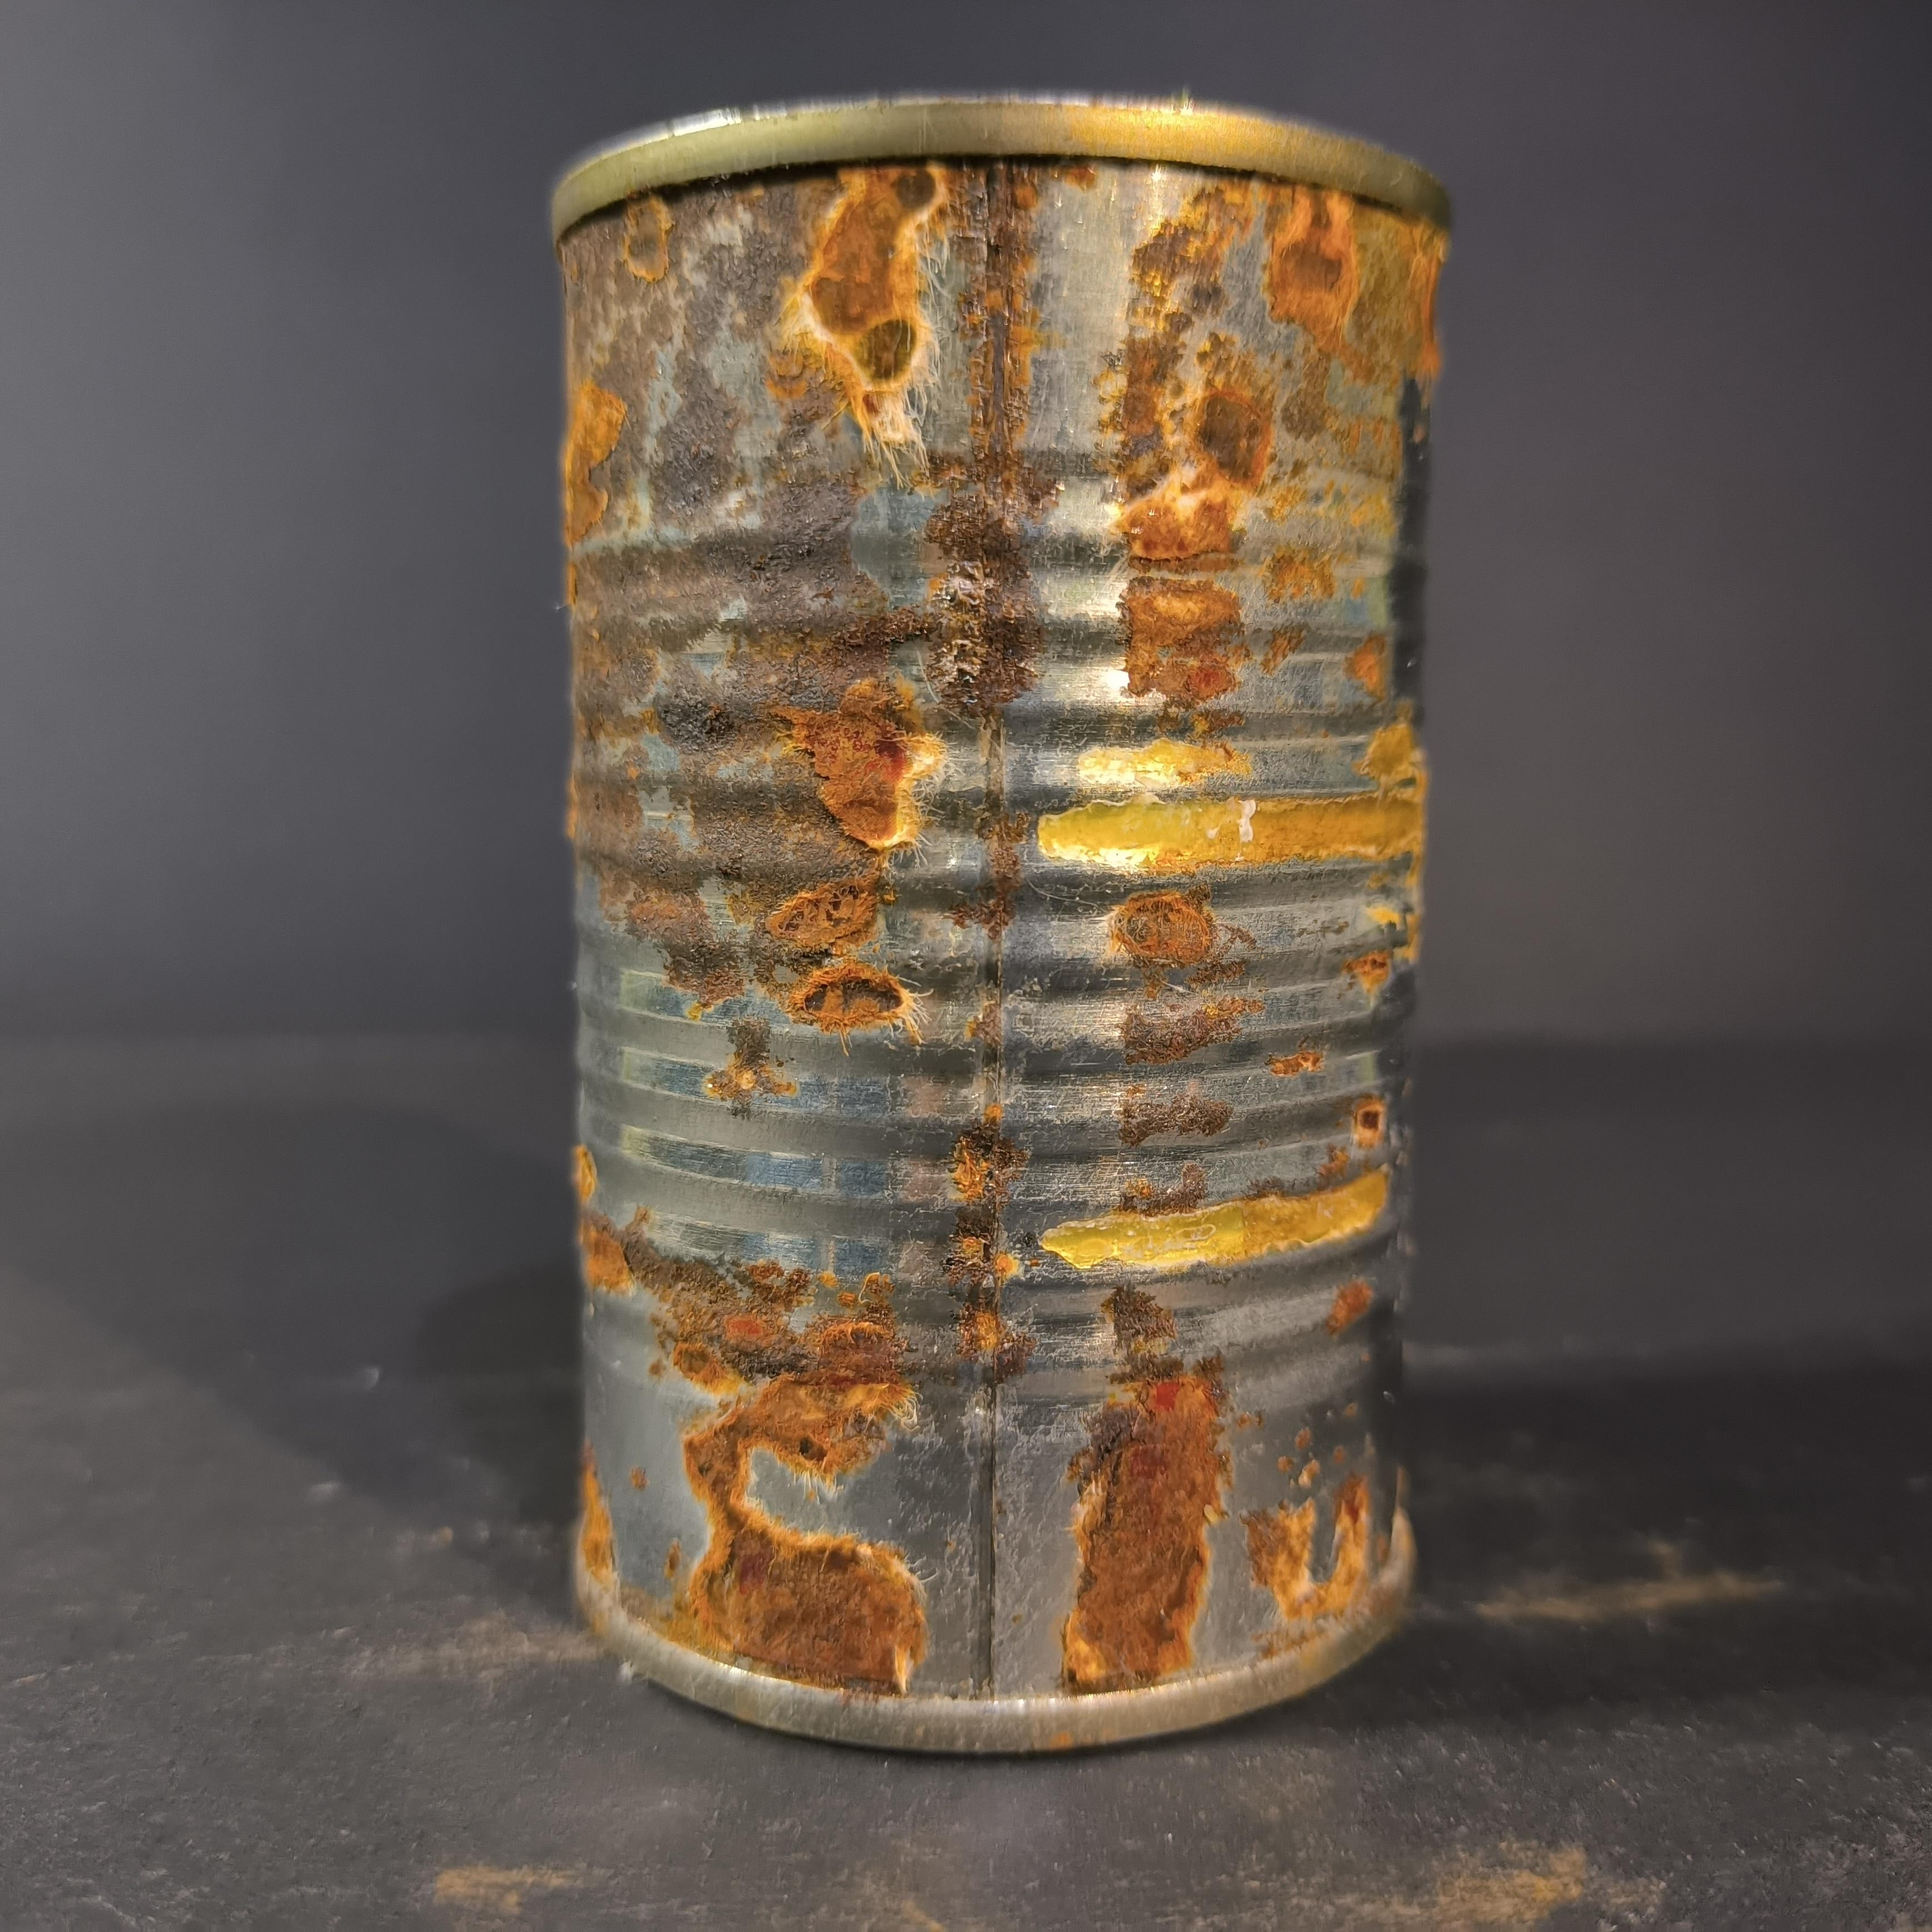Rusted: (515, 44, 1468, 1789)
